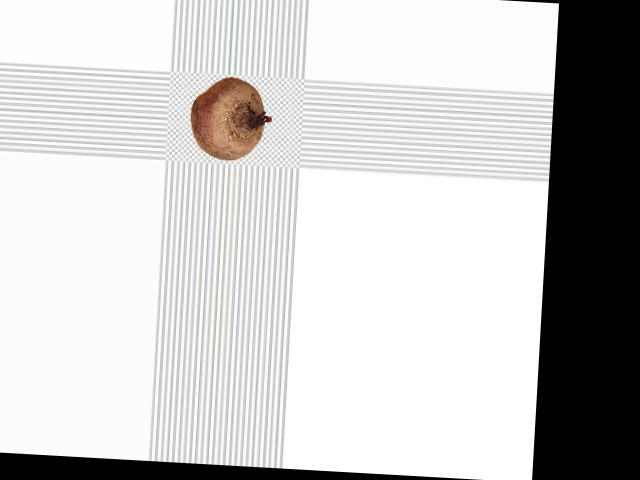beet: (189, 75, 274, 161)
